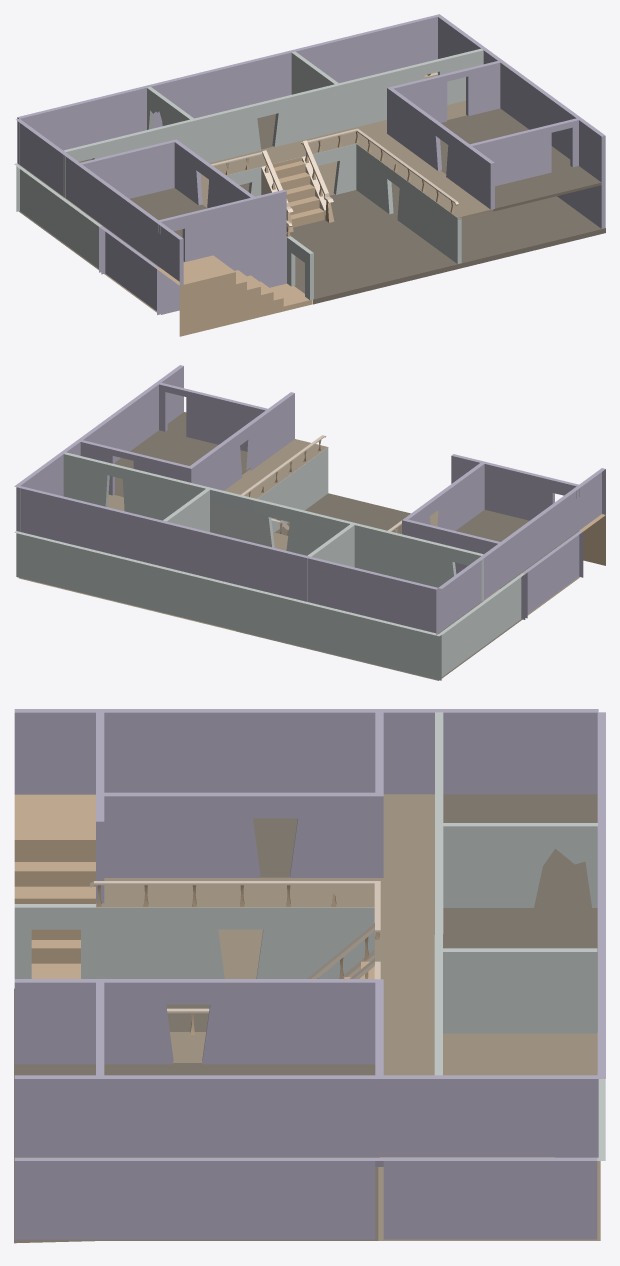
File: HauntedHotel.fbx
3 renders of one model, top to bottom at view 1: azimuth 30°, elevation 25°; view 2: azimuth 150°, elevation 25°; view 3: azimuth 270°, elevation 25°, orthographic. The views are drawn at different scales.
Parts seen in each view (by area): view 1: polySurface138; view 2: polySurface138; view 3: polySurface138.
Boxes of the visible parts, bbox=[...] form: polySurface138: bbox=[14, 14, 605, 336]; polySurface138: bbox=[14, 365, 605, 680]; polySurface138: bbox=[14, 709, 605, 1243].
Bounding box in the file's own units: 105 × 22.9 × 71.06.
